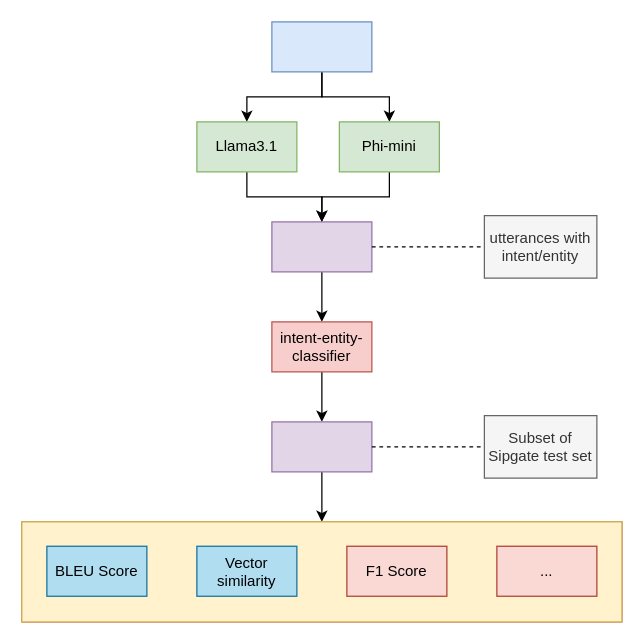
Image size: 644x644. Some labels were removed from this diagram. Each missing label, with the box of its shape:
Golden set: (271, 421, 372, 472)
NLU training data: (271, 221, 372, 272)
Prompt: (271, 21, 372, 72)
